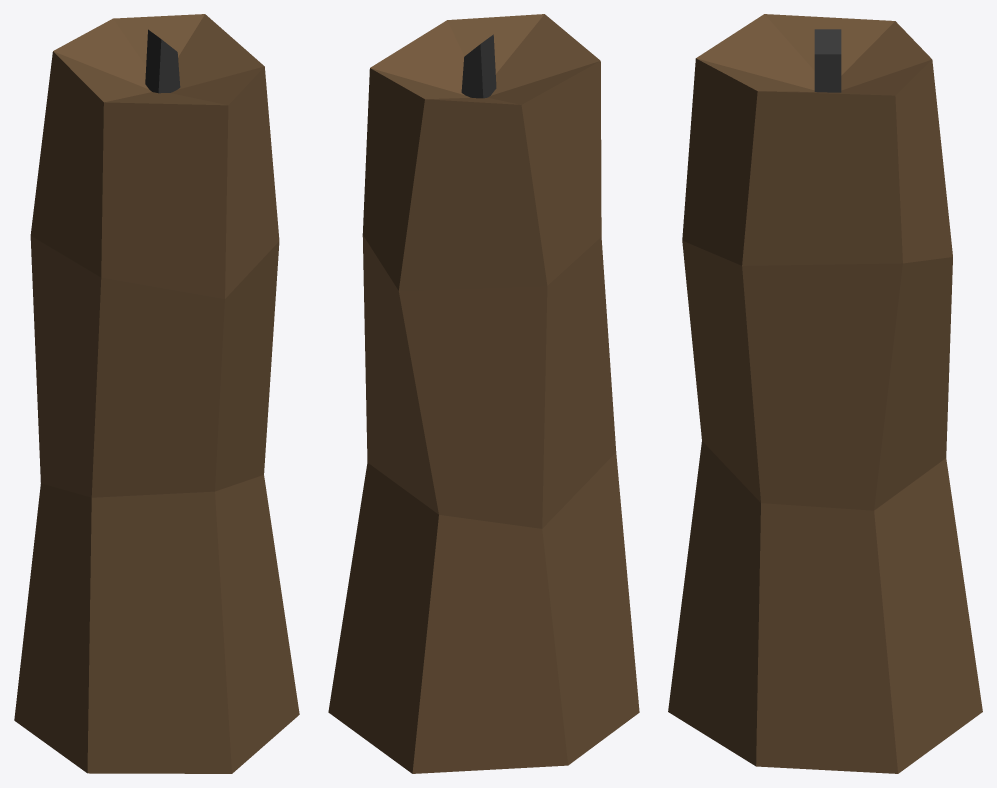
File: Candle_1_Brown.fbx
3 views of the same model, side by side, from view 1: azimuth 30°, elevation 25°; view 2: azimuth 150°, elevation 25°; view 3: azimuth 270°, elevation 25° (orthographic).
Visible parts, largest first — view 1: Candle_1_Brown_Part_1, Candle_1_Brown_Part_2; view 2: Candle_1_Brown_Part_1, Candle_1_Brown_Part_2; view 3: Candle_1_Brown_Part_1, Candle_1_Brown_Part_2.
Boxes of the visible parts, x1=… form: Candle_1_Brown_Part_1: x1=14, y1=14, x2=299, y2=773; Candle_1_Brown_Part_2: x1=145, y1=29, x2=180, y2=93; Candle_1_Brown_Part_1: x1=328, y1=14, x2=639, y2=773; Candle_1_Brown_Part_2: x1=461, y1=34, x2=496, y2=98; Candle_1_Brown_Part_1: x1=668, y1=14, x2=982, y2=773; Candle_1_Brown_Part_2: x1=814, y1=29, x2=841, y2=92.
Size of the model in its own units: 11.26 by 31.14 by 13.
